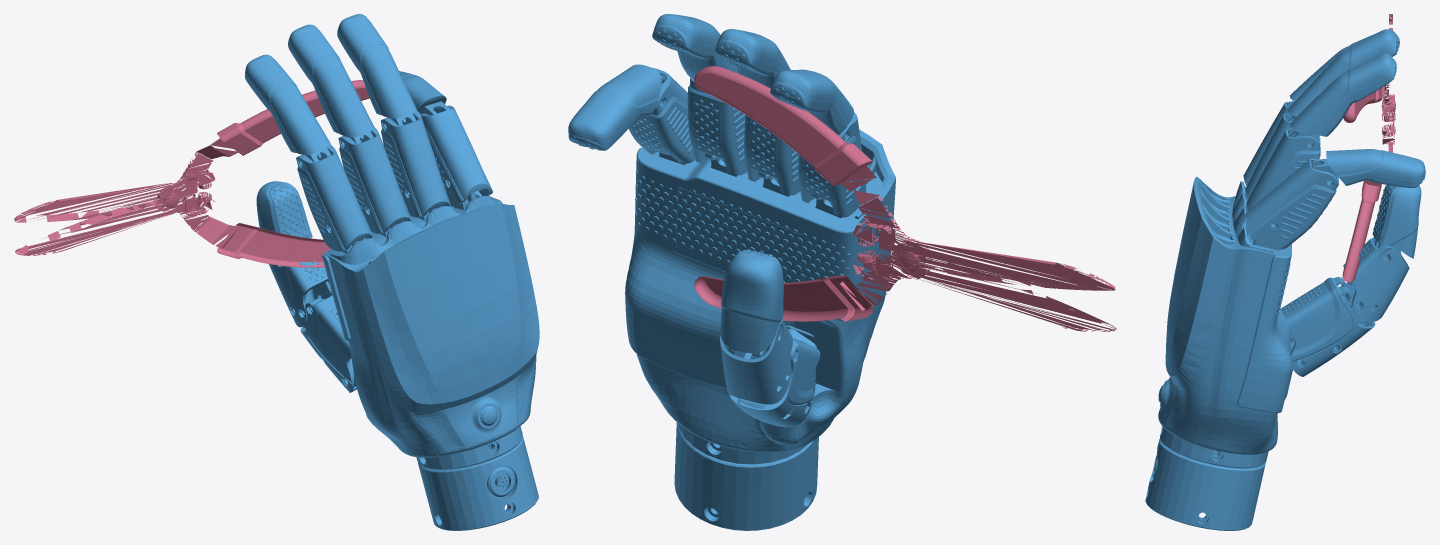
3 renders of one model, left to right at view 1: azimuth 30°, elevation 25°; view 2: azimuth 150°, elevation 25°; view 3: azimuth 270°, elevation 25°, orthographic. The views are drawn at different scales.
Visible parts, largest first — view 1: 0; view 2: 0; view 3: 0.
Part boxes in pixels (x1,y1,x2,y2): 0: [14, 14, 539, 530]; 0: [568, 14, 1116, 530]; 0: [1145, 14, 1425, 530].
Bounding box in the file's own units: 0.231 × 0.2276 × 0.1281.
